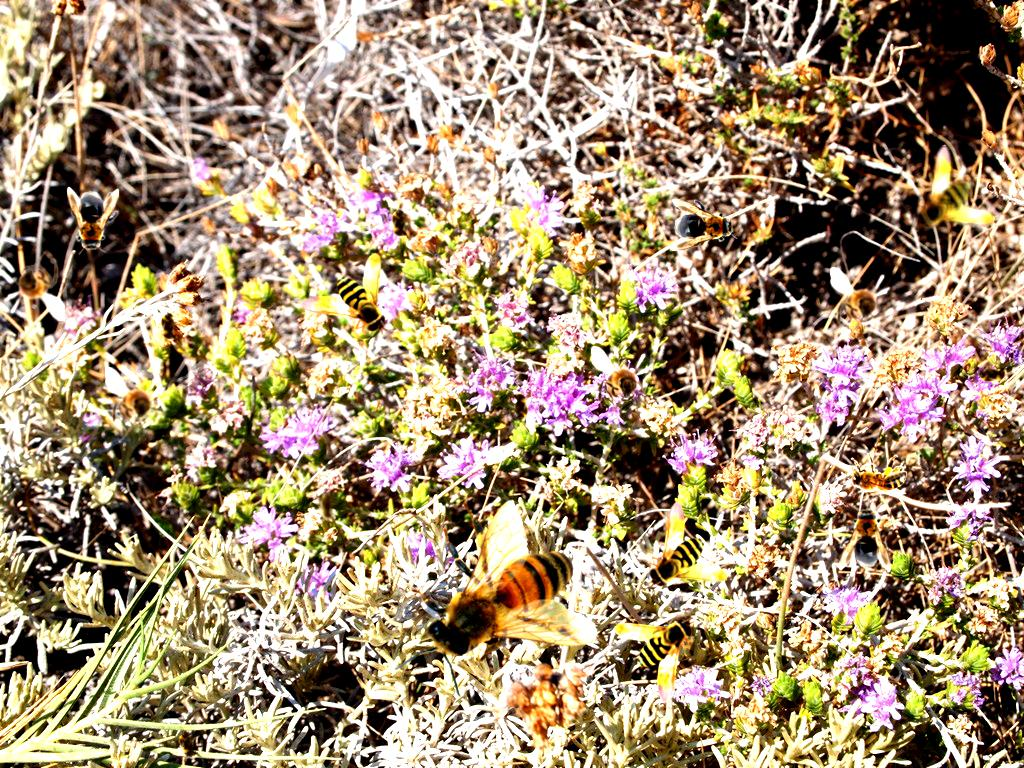Bee: (394, 500, 598, 699), (646, 501, 728, 589), (300, 253, 388, 335), (913, 144, 995, 232), (614, 616, 696, 704), (4, 251, 65, 321), (591, 346, 652, 416), (105, 367, 166, 437), (830, 267, 891, 337), (67, 187, 119, 255), (670, 199, 738, 251), (839, 504, 891, 572), (841, 453, 907, 498), (172, 721, 204, 767), (972, 363, 1012, 385), (158, 306, 180, 346), (389, 203, 411, 243), (509, 387, 531, 427), (317, 486, 339, 526)
